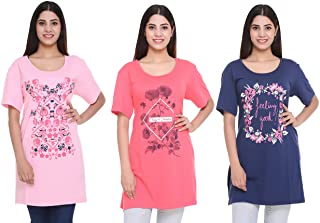tshirt: (1, 51, 105, 205), (110, 56, 214, 210), (215, 56, 316, 206)
